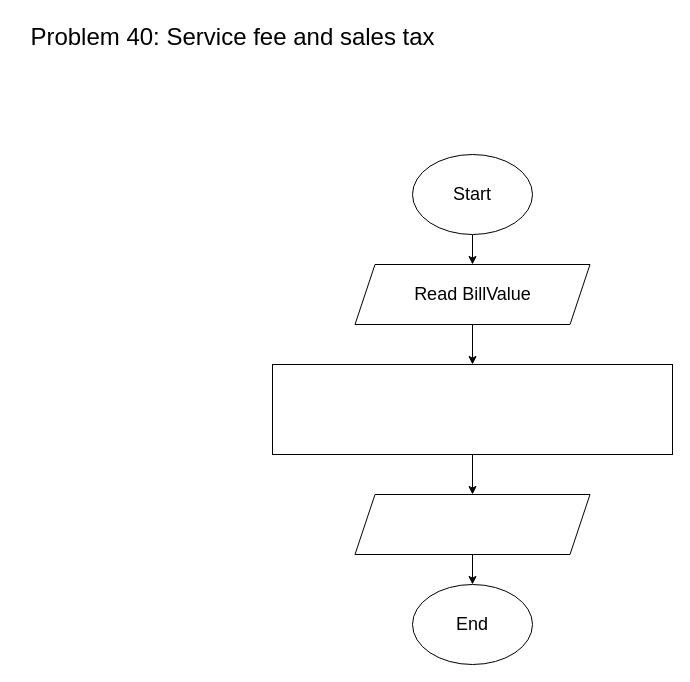
This 690x682 diagram has some shape labels left out. The centre of each missing label's shape, as x and y in pixels:
"Print TotalBill" goes at point (472, 524).
"TotalBill = BillValue * 1.1 TotalBill = TotalBill * 1.16" goes at point (472, 409).
